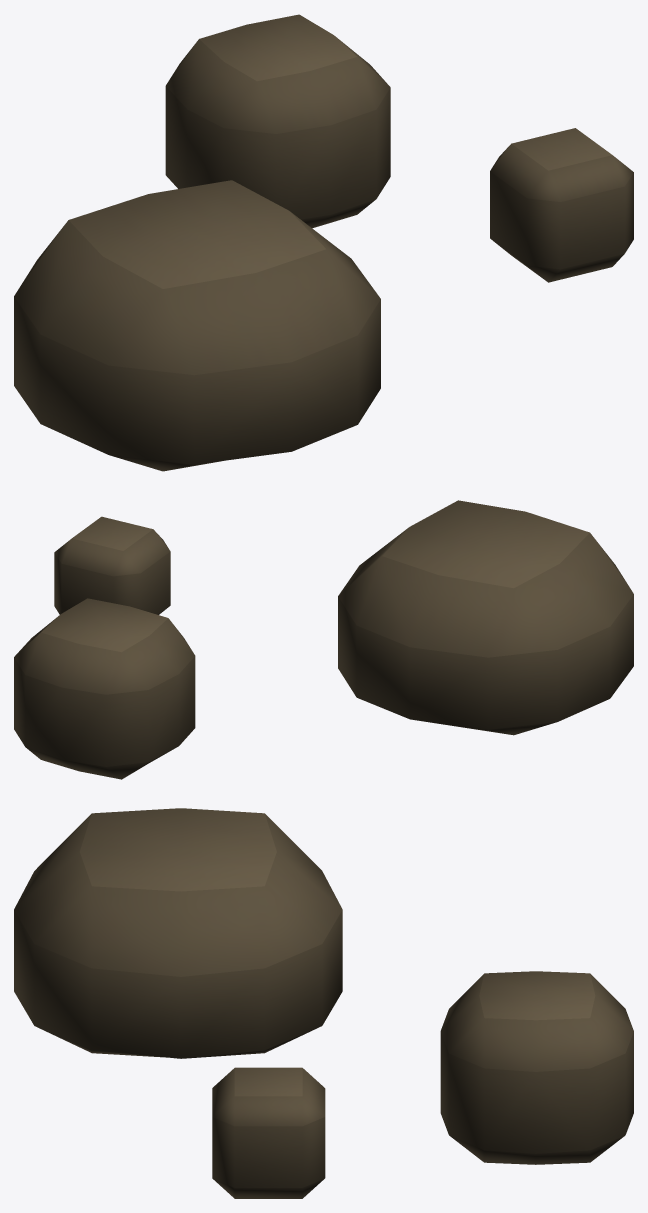
Rendered from deco_desert_pebbles_3.fbx.
3 renders of one model, top to bottom at view 1: azimuth 30°, elevation 25°; view 2: azimuth 150°, elevation 25°; view 3: azimuth 270°, elevation 25°, orthographic. The views are drawn at different scales.
Parts seen in each view (by area): view 1: deco_desert_pebbles1_3_LOD0; view 2: deco_desert_pebbles1_3_LOD0; view 3: deco_desert_pebbles1_3_LOD0.
Boxes of the visible parts, x1,y1,x2,y2 form: deco_desert_pebbles1_3_LOD0: (14, 14, 633, 471); deco_desert_pebbles1_3_LOD0: (14, 500, 633, 779); deco_desert_pebbles1_3_LOD0: (14, 808, 633, 1198).
Size of what is drawn, in the model's own units: 65.55 by 18.34 by 61.75.
